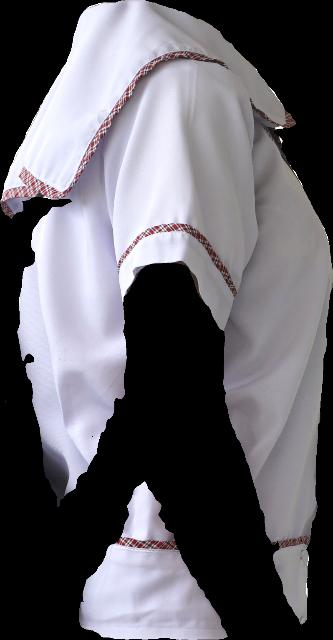pologirl: (0, 0, 332, 624)
